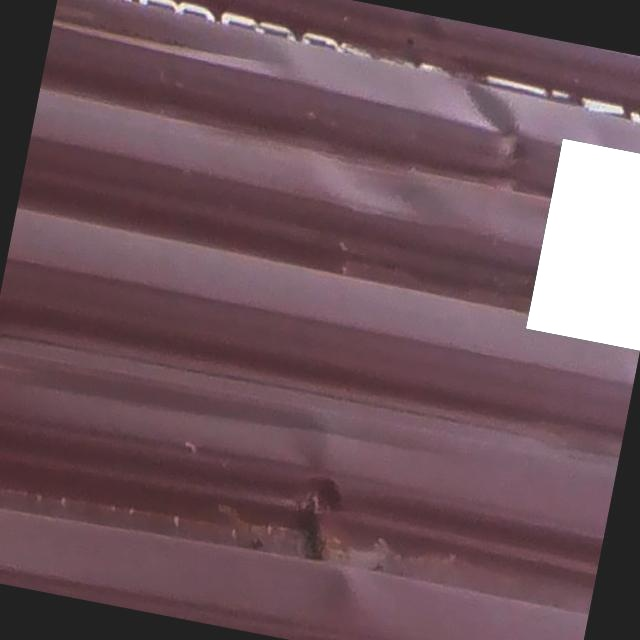Dent: (287, 459, 361, 577)
